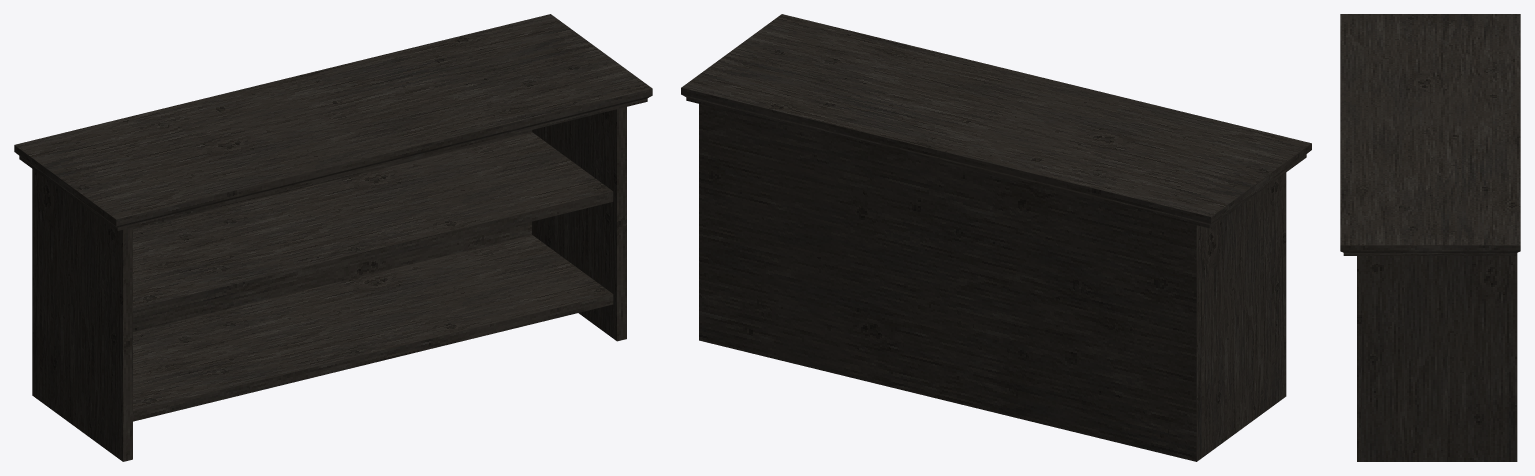
Rendered from tv_table_1.glb.
The picture shows the model from 3 angles, left to right: view 1: azimuth 30°, elevation 25°; view 2: azimuth 150°, elevation 25°; view 3: azimuth 270°, elevation 25°; orthographic projection. The views are drawn at different scales.
Parts seen in each view (by area): view 1: tv_table_1; view 2: tv_table_1; view 3: tv_table_1.
Part boxes in pixels (box(x1,y1,x2,y2)): tv_table_1: box(14, 14, 652, 461); tv_table_1: box(681, 14, 1311, 461); tv_table_1: box(1340, 14, 1520, 461).
Bounding box in the file's own units: 1.64 × 0.74 × 0.54.
Materials: 1 (1 with a texture image).
